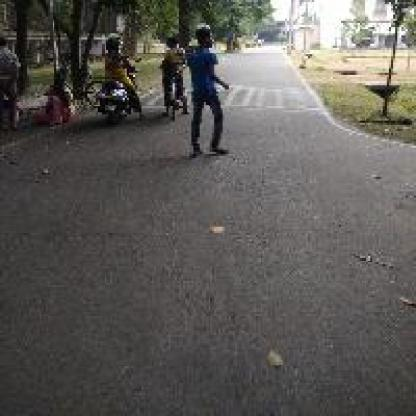Speed Bump: (231, 77, 329, 114)
